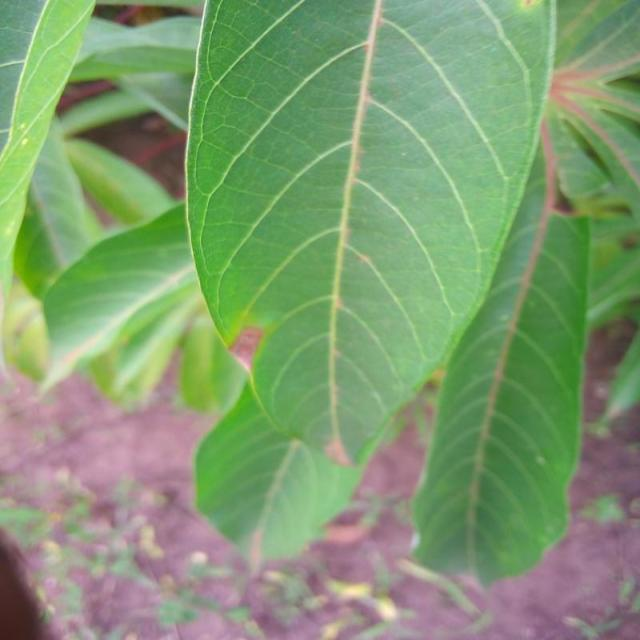cassava leaf: (182, 0, 556, 470), (410, 128, 592, 587)
